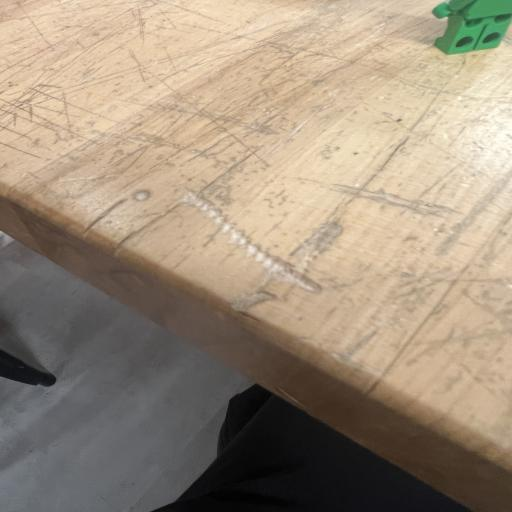green-lego-minifigure-detector: (432, 0, 512, 55)
